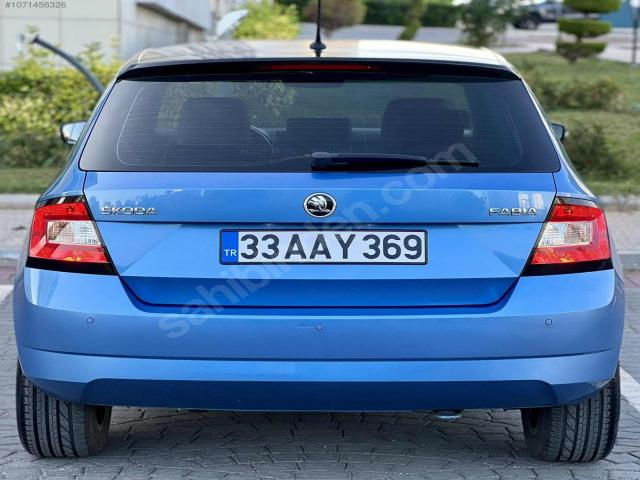plaka: (220, 230, 426, 264)
